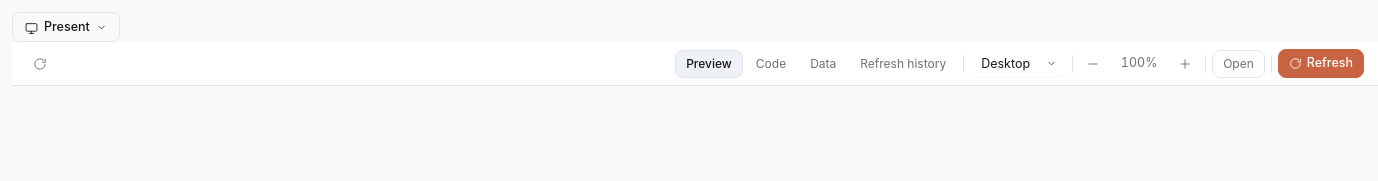
Test: LiveArtifactViewer › closes the present menu on Escape without tearing down the viewer
Click the button "Present".
click(66, 27)  # box [12, 12, 120, 42]
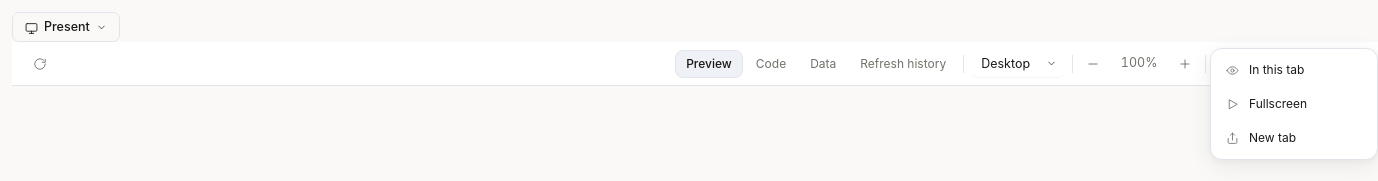
Now the menu item "New tab" is shown, box [1215, 121, 1373, 155]
Press Escape
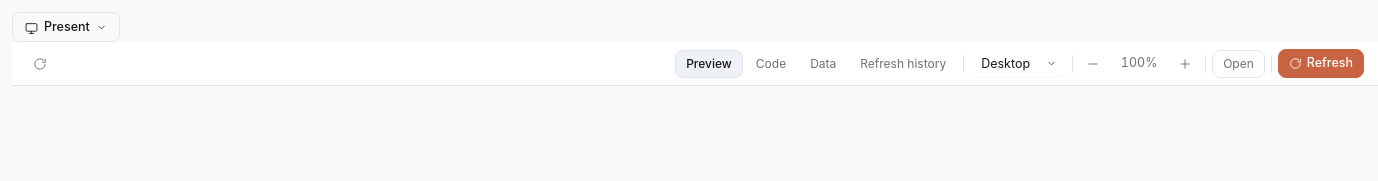
Expected: the button "Present" is shown, [12, 12, 120, 42]
Now the menu item "New tab" is gone
